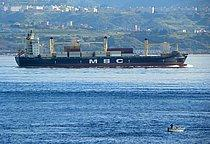Ship: (13, 45, 191, 71)
